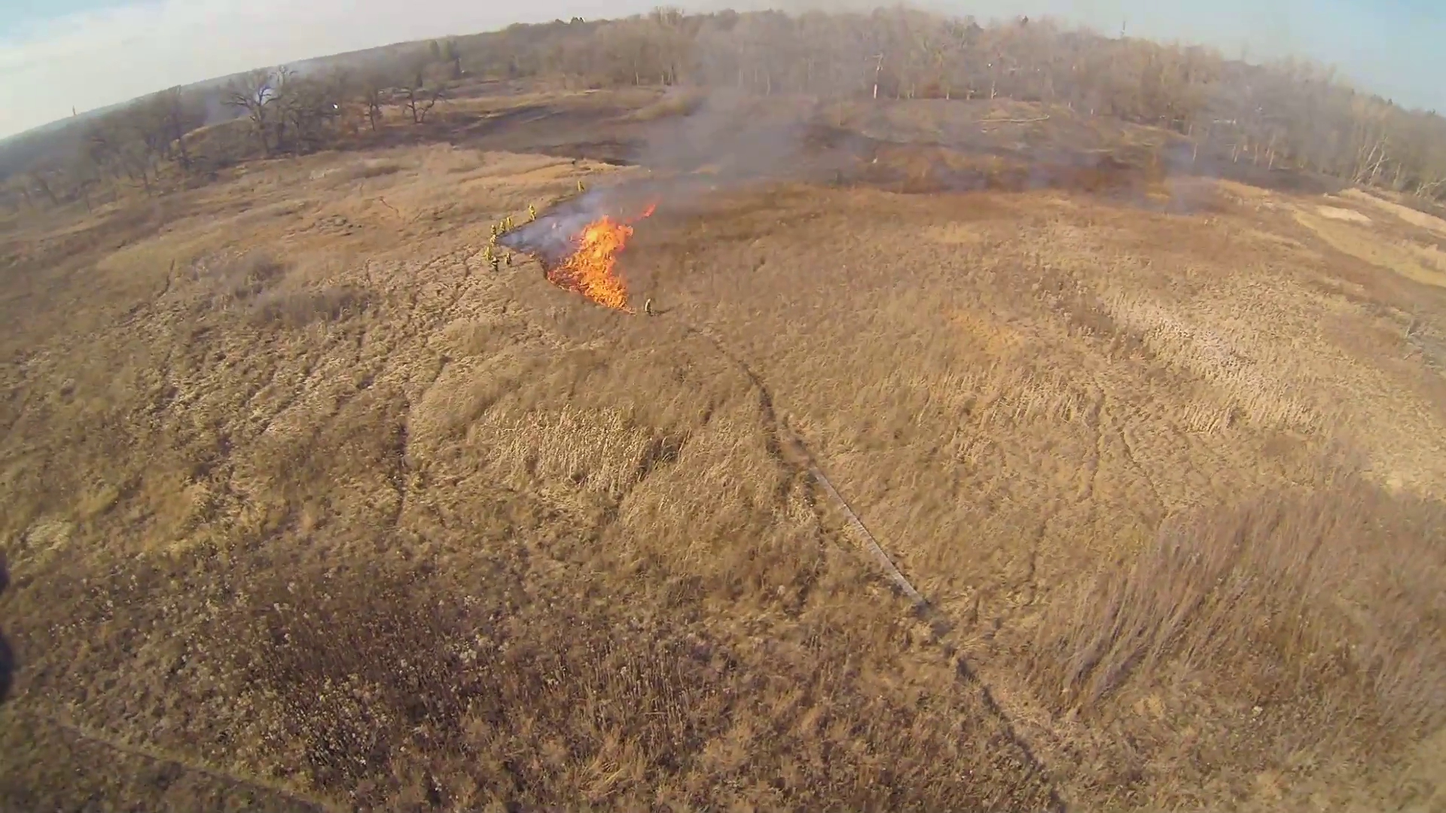forest_fire: (548, 205, 653, 312)
